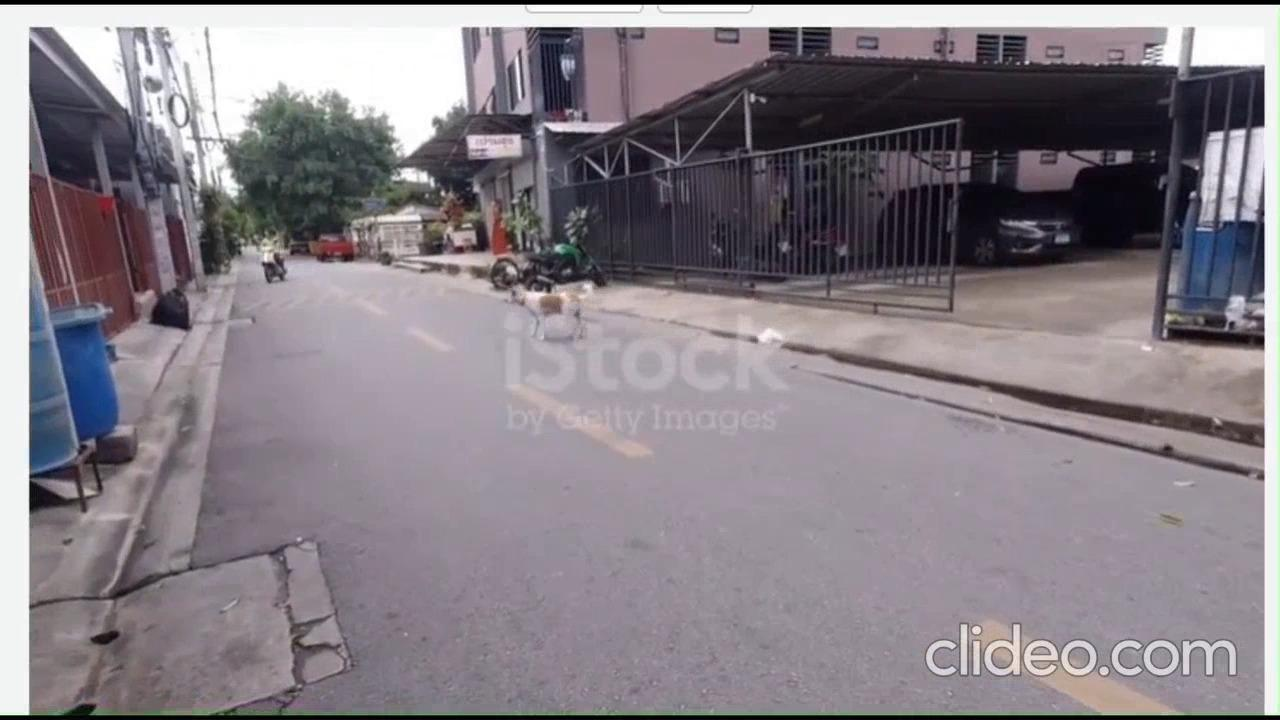dog: (506, 281, 594, 353)
